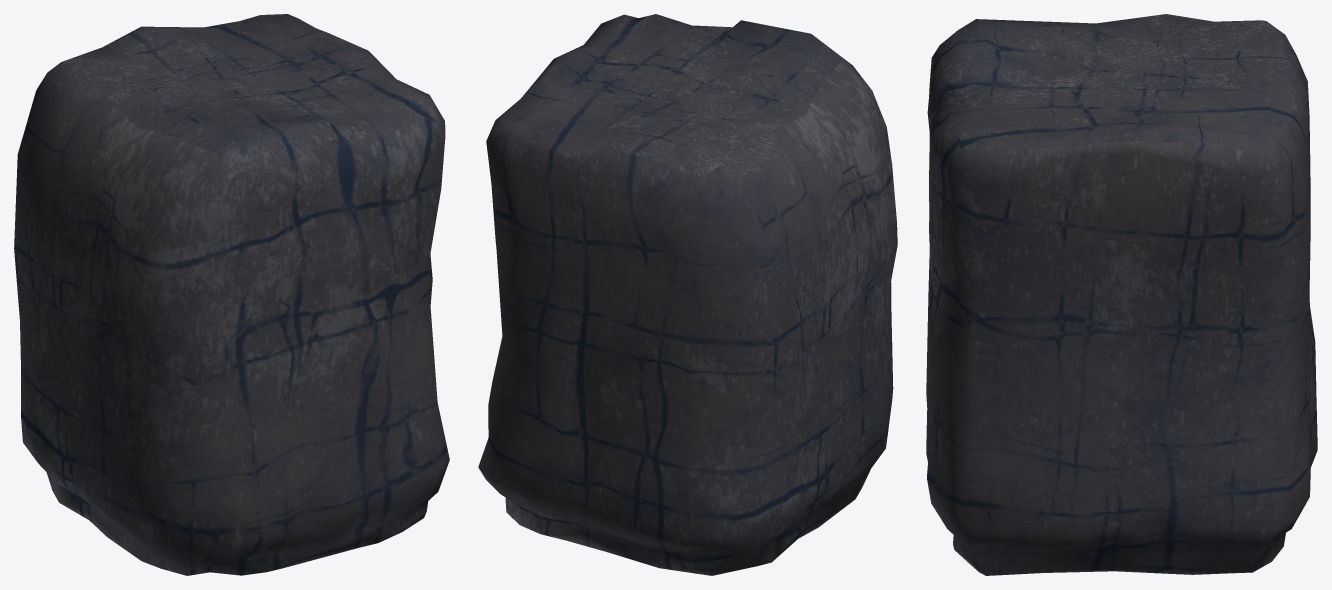
Rendered from gros_block1.obj.
3 views of the same model, side by side, from view 1: azimuth 30°, elevation 25°; view 2: azimuth 150°, elevation 25°; view 3: azimuth 270°, elevation 25° (orthographic). The views are drawn at different scales.
Parts seen in each view (by area): view 1: gros_block1; view 2: gros_block1; view 3: gros_block1.
Boxes of the visible parts, x1,y1,x2,y2 form: gros_block1: [14, 14, 449, 575]; gros_block1: [478, 14, 897, 575]; gros_block1: [926, 14, 1317, 575].
Bounding box in the file's own units: 3620 × 4901 × 3788.
Materials: 1 (1 with a texture image).
